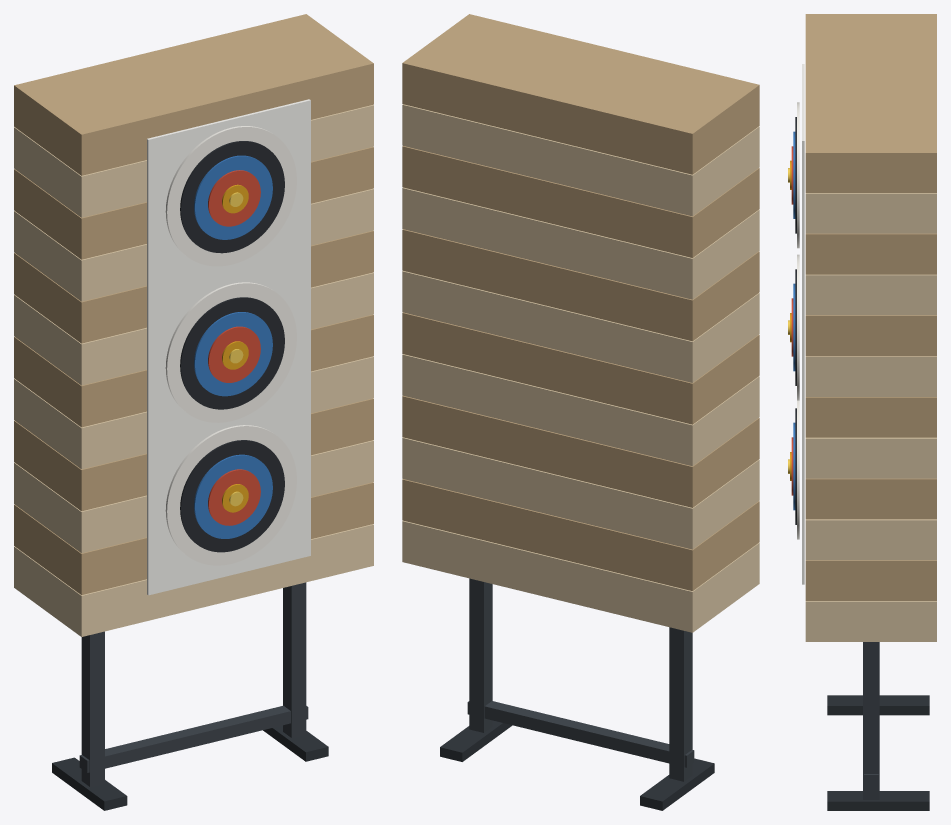
Rendered from indoor_butt.glb.
The picture shows the model from 3 angles, left to right: view 1: azimuth 30°, elevation 25°; view 2: azimuth 150°, elevation 25°; view 3: azimuth 270°, elevation 25°; orthographic projection. The views are drawn at different scales.
Parts seen in each view (by area): view 1: face_card, foam_11, foam_0, foam_5, foam_6, foam_4, foam_7, foam_1, foam_2, foam_3, foam_8, foam_9 (+18 smaller); view 2: foam_11, foam_10, foam_7, foam_2, foam_4, foam_5, foam_1, foam_3, foam_6, foam_9, foam_0, foam_8 (+5 smaller); view 3: foam_11, foam_2, foam_4, foam_7, foam_9, foam_3, foam_8, foam_0, foam_1, foam_10, foam_5, foam_6 (+7 smaller).
Part boxes in pixels (bbox=[...]): face_card: bbox=[147, 99, 310, 595]; foam_11: bbox=[14, 14, 373, 175]; foam_0: bbox=[14, 524, 373, 636]; foam_5: bbox=[14, 314, 373, 427]; foam_6: bbox=[14, 272, 373, 385]; foam_4: bbox=[14, 356, 373, 469]; foam_7: bbox=[14, 230, 373, 343]; foam_1: bbox=[14, 482, 373, 595]; foam_2: bbox=[14, 440, 373, 553]; foam_3: bbox=[14, 398, 373, 511]; foam_8: bbox=[14, 188, 373, 301]; foam_9: bbox=[14, 147, 373, 259]; foam_11: bbox=[402, 14, 759, 174]; foam_10: bbox=[402, 104, 759, 216]; foam_7: bbox=[402, 229, 759, 341]; foam_2: bbox=[402, 437, 759, 549]; foam_4: bbox=[402, 354, 759, 466]; foam_5: bbox=[402, 312, 759, 424]; foam_1: bbox=[402, 479, 759, 590]; foam_3: bbox=[402, 395, 759, 507]; foam_6: bbox=[402, 271, 759, 382]; foam_9: bbox=[402, 146, 759, 257]; foam_0: bbox=[402, 520, 759, 632]; foam_8: bbox=[402, 187, 759, 299]; foam_11: bbox=[805, 14, 936, 192]; foam_2: bbox=[805, 519, 936, 560]; foam_4: bbox=[805, 437, 936, 478]; foam_7: bbox=[805, 315, 936, 356]; foam_9: bbox=[805, 233, 936, 274]; foam_3: bbox=[805, 478, 936, 519]; foam_8: bbox=[805, 274, 936, 315]; foam_0: bbox=[805, 601, 936, 641]; foam_1: bbox=[805, 560, 936, 600]; foam_10: bbox=[805, 193, 936, 233]; foam_5: bbox=[805, 397, 936, 437]; foam_6: bbox=[805, 356, 936, 396].
Size of the model in its own units: 0.9 by 2.04 by 0.408.
